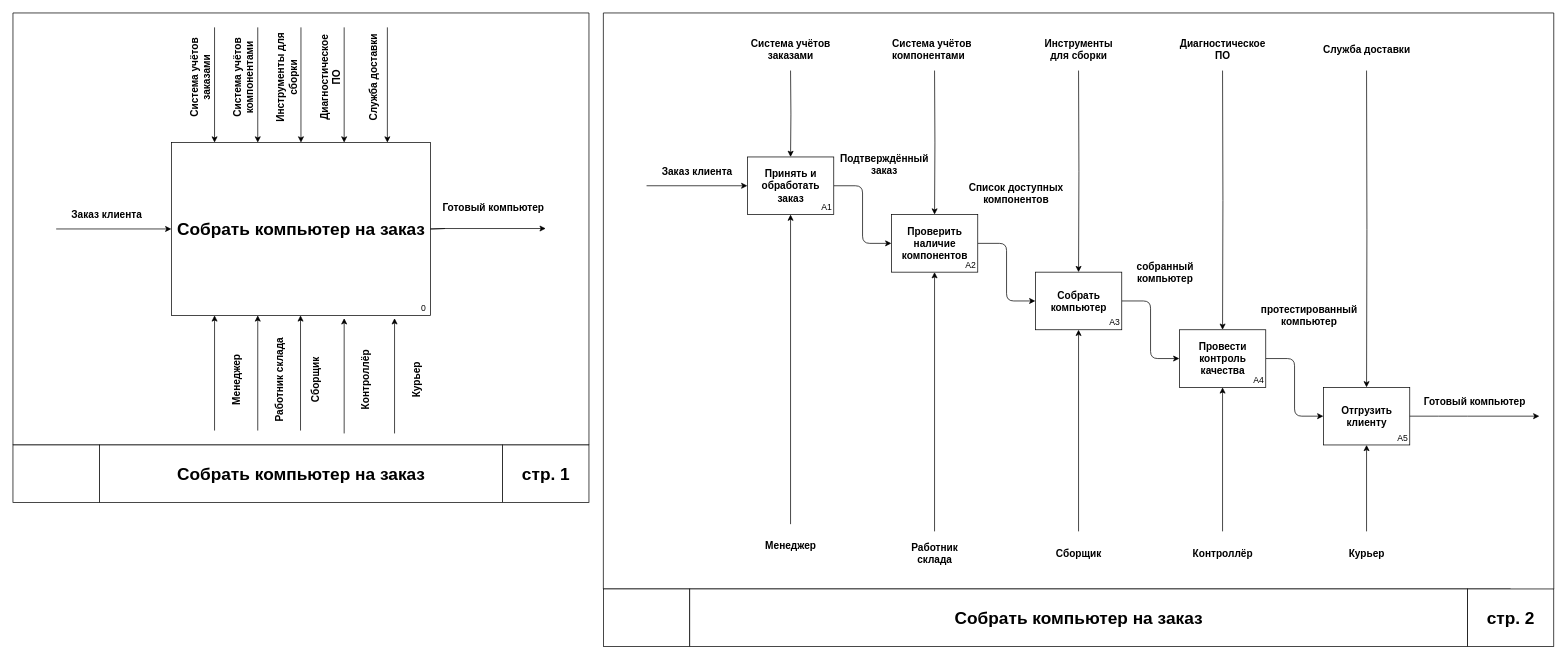
This 1567x659 diagram has some shape labels left out. Each missing label, with the centre of its shape:
А-0: the point at 55,473
А0: the point at 646,617
